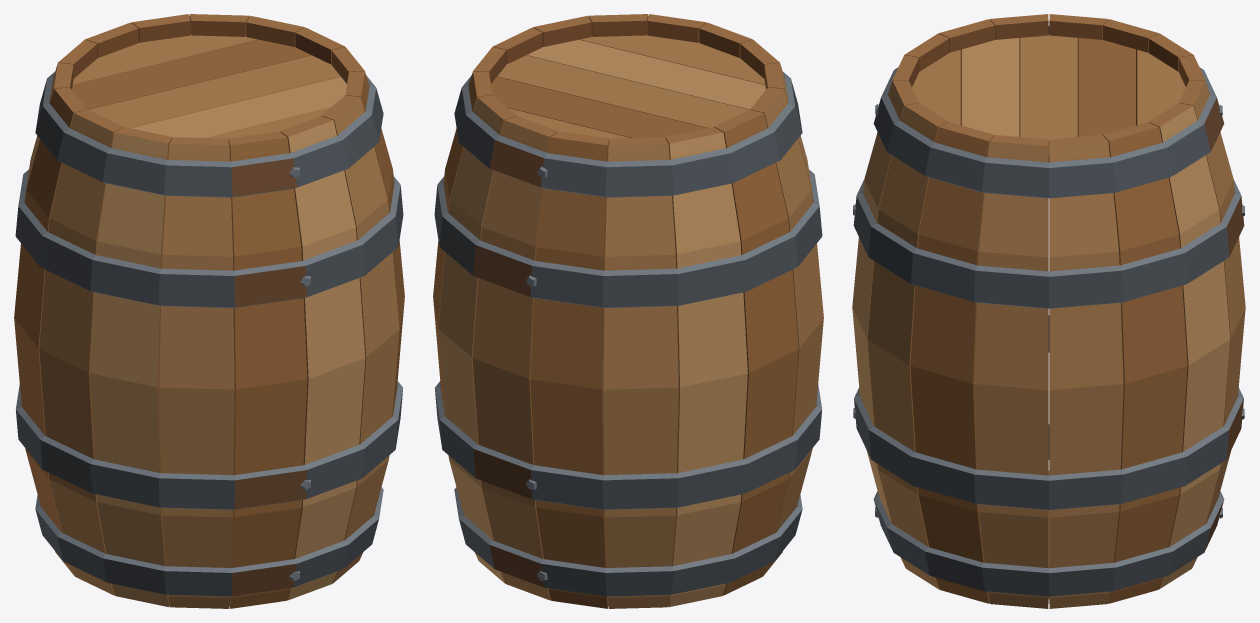
File: Wooden Mining Barrel.glb
3 renders of one model, left to right at view 1: azimuth 30°, elevation 25°; view 2: azimuth 150°, elevation 25°; view 3: azimuth 270°, elevation 25°, orthographic.
Parts seen in each view (by area): view 1: Wooden Mining Barrel.Static; view 2: Wooden Mining Barrel.Static; view 3: Wooden Mining Barrel.Static.
Part boxes in pixels (box(x1,y1,x2,y2)): Wooden Mining Barrel.Static: box(14, 14, 404, 608); Wooden Mining Barrel.Static: box(433, 14, 823, 608); Wooden Mining Barrel.Static: box(852, 14, 1245, 608).
Bounding box in the file's own units: 0.754 × 0.98 × 0.754.
